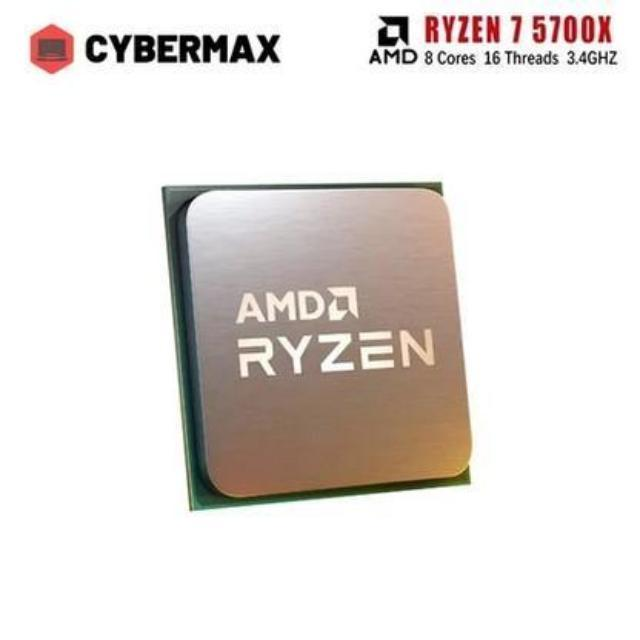CPU: (161, 190, 479, 512)
